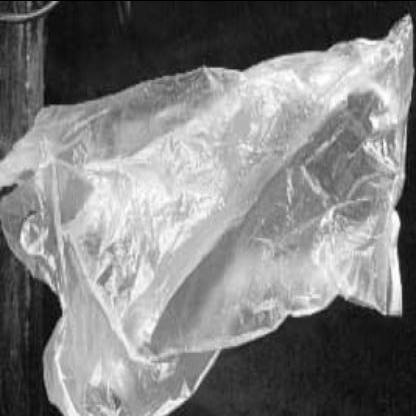objects: (25, 71, 414, 416)
